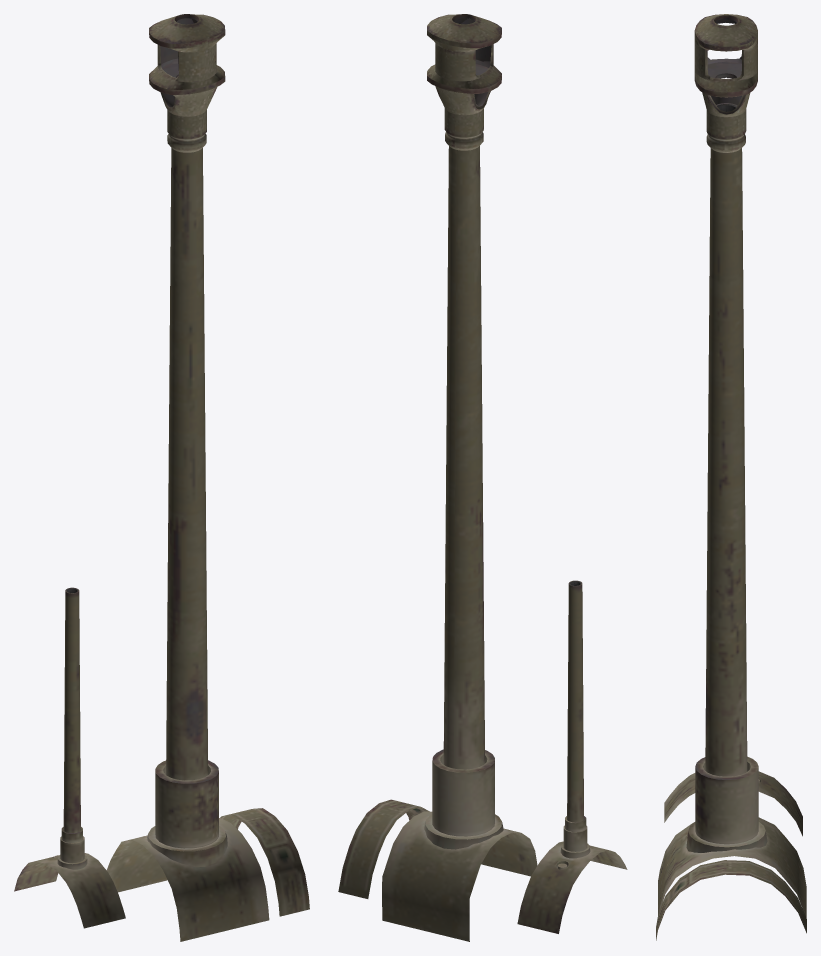
File: Gun_04.glb
The picture shows the model from 3 angles, left to right: view 1: azimuth 30°, elevation 25°; view 2: azimuth 150°, elevation 25°; view 3: azimuth 270°, elevation 25°; orthographic projection.
Parts seen in each view (by area): view 1: set_0_group_0; view 2: set_0_group_0; view 3: set_0_group_0.
Boxes of the visible parts, bbox=[...] form: set_0_group_0: bbox=[14, 14, 309, 941]; set_0_group_0: bbox=[338, 14, 627, 941]; set_0_group_0: bbox=[656, 14, 806, 940].
Bounding box in the file's own units: 0.8885 × 3.43 × 0.5274.
Materials: 1 (1 with a texture image).
